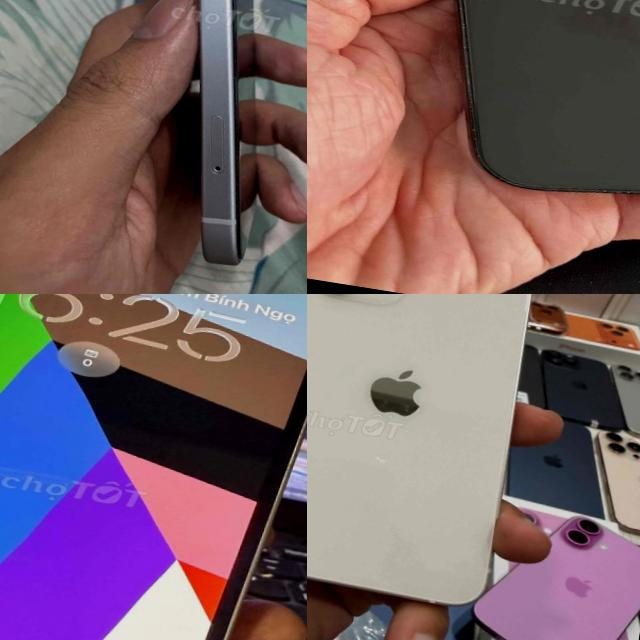gen_12_13: (0, 294, 307, 640), (307, 294, 546, 617)
gen_14: (352, 0, 640, 251)
gen_15: (80, 0, 307, 286)
